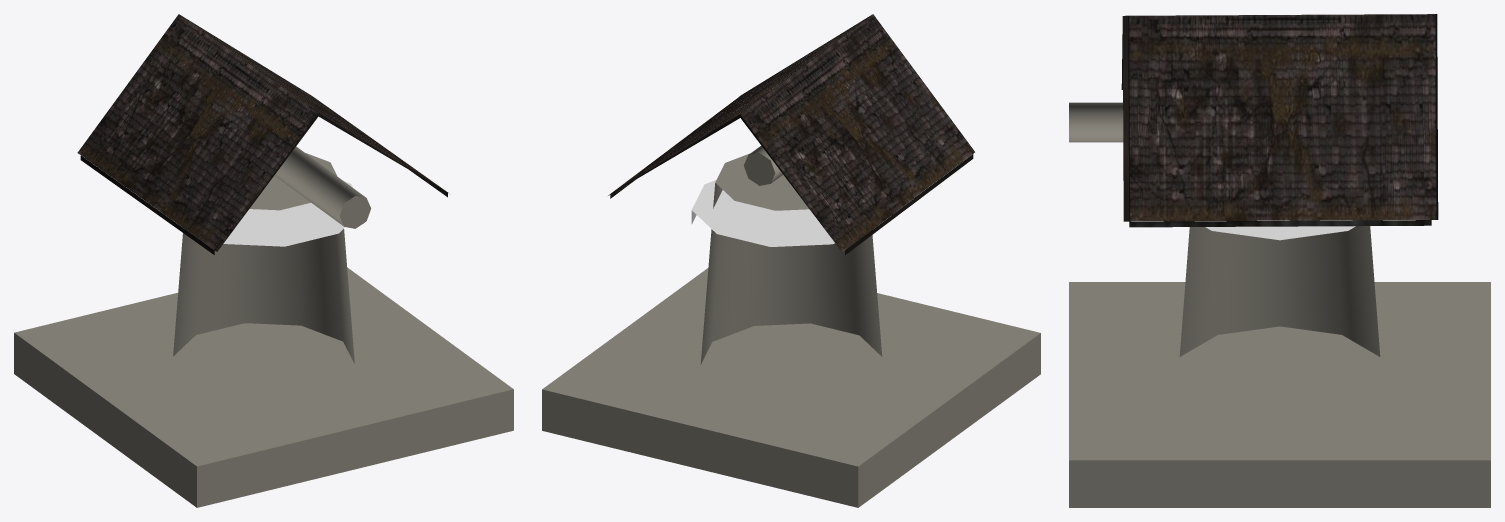
3 views of the same model, side by side, from view 1: azimuth 30°, elevation 25°; view 2: azimuth 150°, elevation 25°; view 3: azimuth 270°, elevation 25° (orthographic). The views are drawn at different scales.
Visible parts, largest first — view 1: dweller_building_turret; view 2: dweller_building_turret; view 3: dweller_building_turret.
Part boxes in pixels (x1,y1,x2,y2): dweller_building_turret: (14,14,513,507); dweller_building_turret: (542,14,1040,507); dweller_building_turret: (1069,14,1490,507).
Size of the model in its own units: 2 by 2.07 by 2.
Materials: 3 (1 with a texture image).
